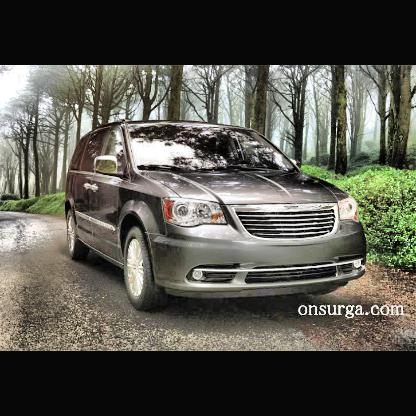Chrysler Town and Country Minivan 2012: (65, 117, 370, 313)
